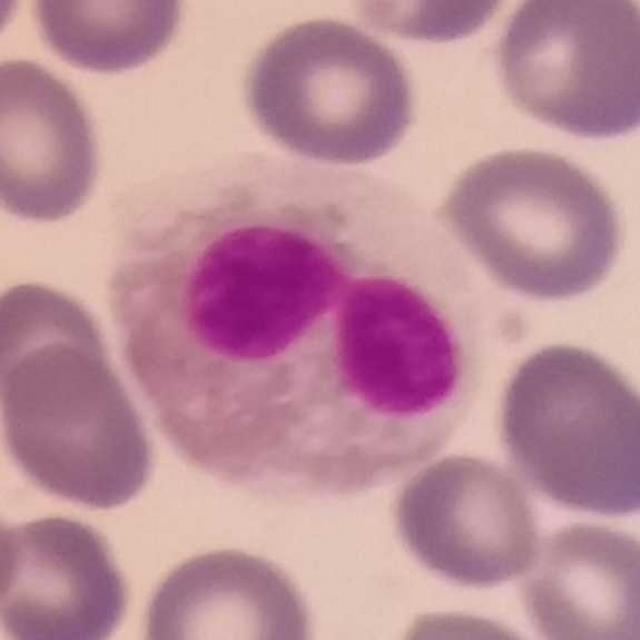Eosinophil: (112, 174, 479, 497)
RBC: (430, 141, 632, 306), (235, 11, 424, 170), (488, 335, 640, 522), (0, 339, 160, 514), (386, 448, 548, 594), (486, 0, 639, 147), (132, 538, 322, 640), (0, 52, 110, 228), (0, 506, 136, 640), (0, 272, 120, 418), (512, 514, 639, 640), (24, 0, 192, 78), (340, 0, 524, 49), (394, 602, 528, 640), (0, 480, 27, 629), (0, 0, 33, 62)
